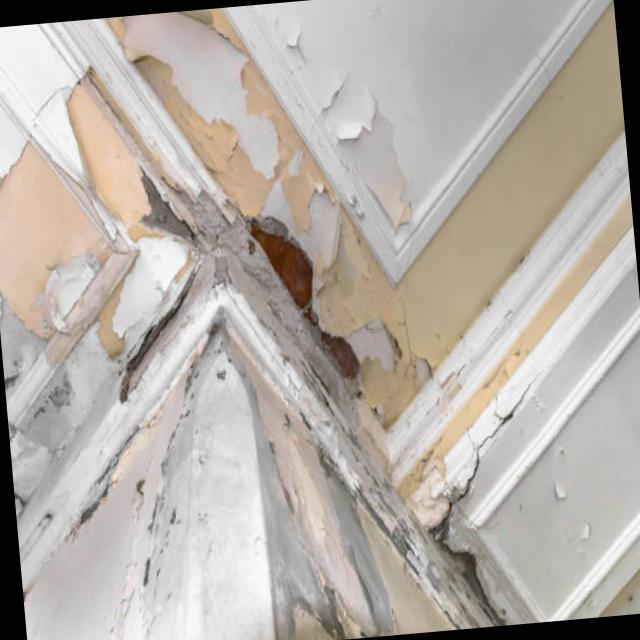crack: (410, 369, 552, 555)
